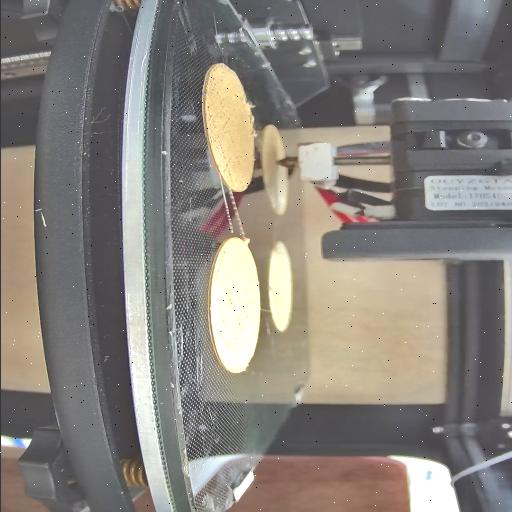under_extrusion: (214, 291, 252, 356), (203, 74, 229, 133), (216, 142, 232, 179), (212, 250, 228, 276)
